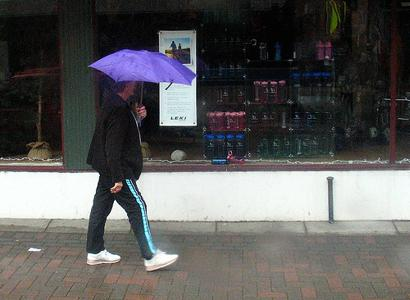person: (87, 78, 180, 272)
